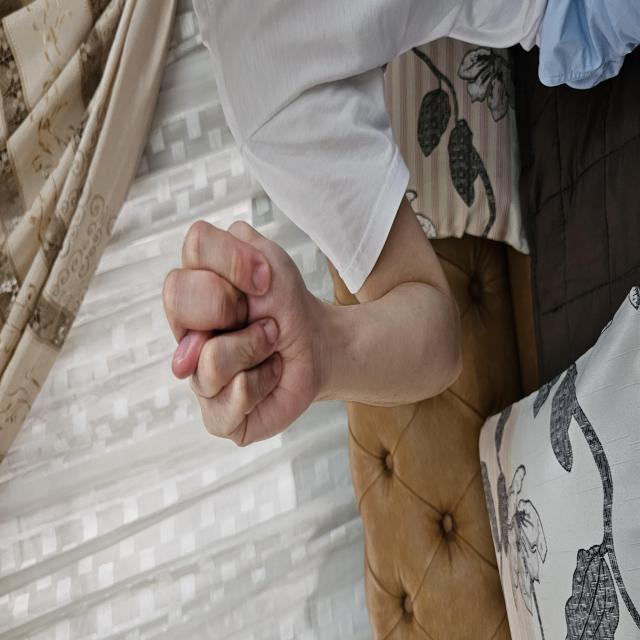N: (133, 160, 422, 505)
